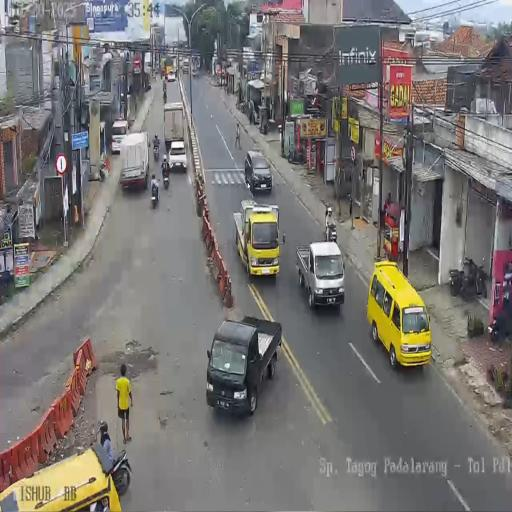car: (206, 316, 282, 417), (366, 259, 432, 367), (244, 149, 273, 193), (111, 118, 130, 154), (167, 140, 187, 172), (182, 61, 189, 75), (192, 66, 199, 78)
motorcycle: (450, 259, 486, 300), (490, 298, 512, 342), (287, 147, 303, 165), (151, 181, 159, 207), (162, 165, 170, 189), (153, 142, 160, 160), (163, 84, 167, 103)
truck: (234, 199, 280, 279), (160, 56, 174, 80), (144, 52, 153, 77)
